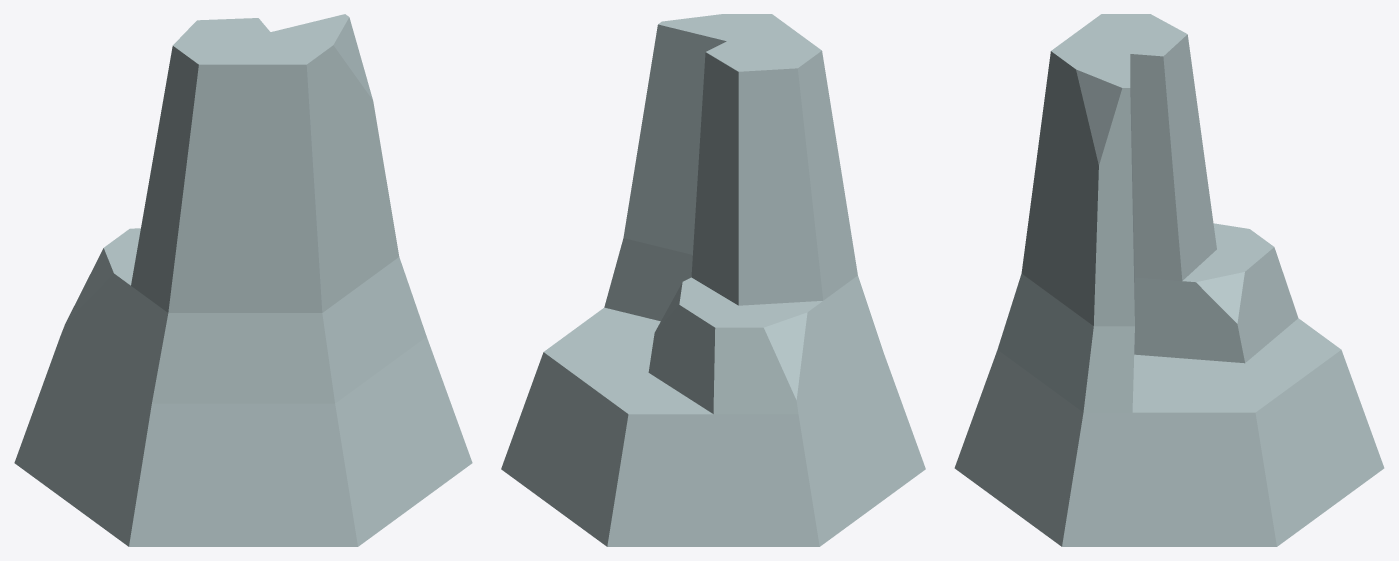
File: stone_tallH.glb
3 renders of one model, left to right at view 1: azimuth 30°, elevation 25°; view 2: azimuth 150°, elevation 25°; view 3: azimuth 270°, elevation 25°, orthographic. The views are drawn at different scales.
Visible parts, largest first — view 1: stone_tallH; view 2: stone_tallH; view 3: stone_tallH.
Boxes of the visible parts, x1,y1,x2,y2 form: stone_tallH: (14, 14, 472, 546); stone_tallH: (501, 14, 925, 546); stone_tallH: (954, 14, 1384, 546).
Size of the model in its own units: 0.5749 by 0.7108 by 0.6639.
